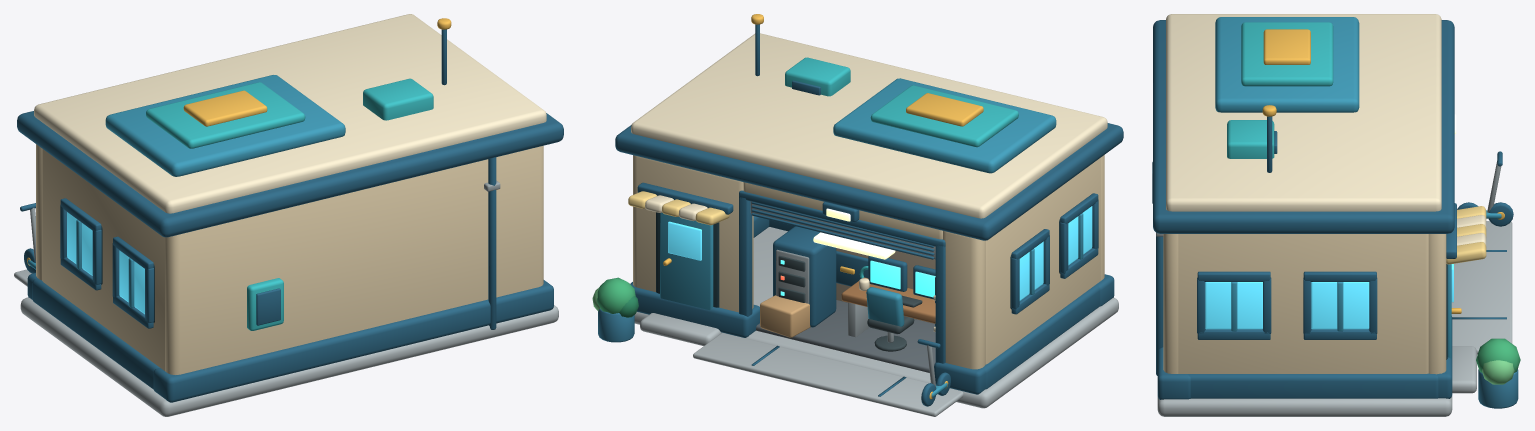
File: indie-garage-level-1.glb
3 views of the same model, side by side, from view 1: azimuth 30°, elevation 25°; view 2: azimuth 150°, elevation 25°; view 3: azimuth 270°, elevation 25° (orthographic). The views are drawn at different scales.
Parts seen in each view (by area): view 1: garage back wall, garage flat roof, garage roof shadow, garage left wall, garage plinth back, garage foundation, garage raised roof bay, garage future upgrade socket, garage plinth left, garage rooftop vent, garage roof amber cap, garage rear downpipe (+8 smaller); view 2: garage flat roof, garage roof shadow, garage left wall, garage concrete apron, garage raised roof bay, garage facade right wall, garage foundation, garage front left pier, garage interior floor, garage future upgrade socket, garage side entrance door, garage server rack (+34 smaller); view 3: garage flat roof, garage right wall, garage roof shadow, garage raised roof bay, garage plinth right, garage concrete apron, garage foundation, garage future upgrade socket, garage facade right wall, garage side window glass.003, garage side window glass.002, garage back wall (+23 smaller).
Part boxes in pixels (<box>): garage back wall: <box>165,145,543,374</box>; garage flat roof: <box>34,14,546,213</box>; garage roof shadow: <box>17,111,563,237</box>; garage left wall: <box>42,149,164,370</box>; garage plinth back: <box>153,280,553,402</box>; garage foundation: <box>20,297,558,416</box>; garage raised roof bay: <box>105,75,345,176</box>; garage future upgrade socket: <box>146,82,305,148</box>; garage plinth left: <box>32,278,159,389</box>; garage rooftop vent: <box>363,78,433,120</box>; garage roof amber cap: <box>183,90,267,126</box>; garage rear downpipe: <box>488,157,496,329</box>; garage flat roof: <box>631,33,1107,218</box>; garage roof shadow: <box>615,123,1123,240</box>; garage left wall: <box>985,157,1100,364</box>; garage concrete apron: <box>693,333,963,416</box>; garage raised roof bay: <box>833,78,1056,173</box>; garage facade right wall: <box>633,155,753,312</box>; garage foundation: <box>634,227,1118,408</box>; garage front left pier: <box>943,231,985,369</box>; garage interior floor: <box>756,300,935,372</box>; garage future upgrade socket: <box>870,85,1018,147</box>; garage side entrance door: <box>660,212,713,310</box>; garage server rack: <box>773,226,836,327</box>; garage flat roof: <box>1166,14,1441,211</box>; garage right wall: <box>1178,234,1428,373</box>; garage roof shadow: <box>1153,20,1454,233</box>; garage raised roof bay: <box>1215,17,1359,112</box>; garage plinth right: <box>1169,373,1438,398</box>; garage concrete apron: <box>1451,221,1512,354</box>; garage foundation: <box>1157,395,1452,416</box>; garage future upgrade socket: <box>1241,22,1333,86</box>; garage facade right wall: <box>1428,234,1446,374</box>; garage side window glass.003: <box>1311,282,1369,329</box>; garage side window glass.002: <box>1205,282,1262,329</box>; garage back wall: <box>1163,234,1178,373</box>.
Bounding box in the file's own units: 8 × 5.27 × 6.25.
